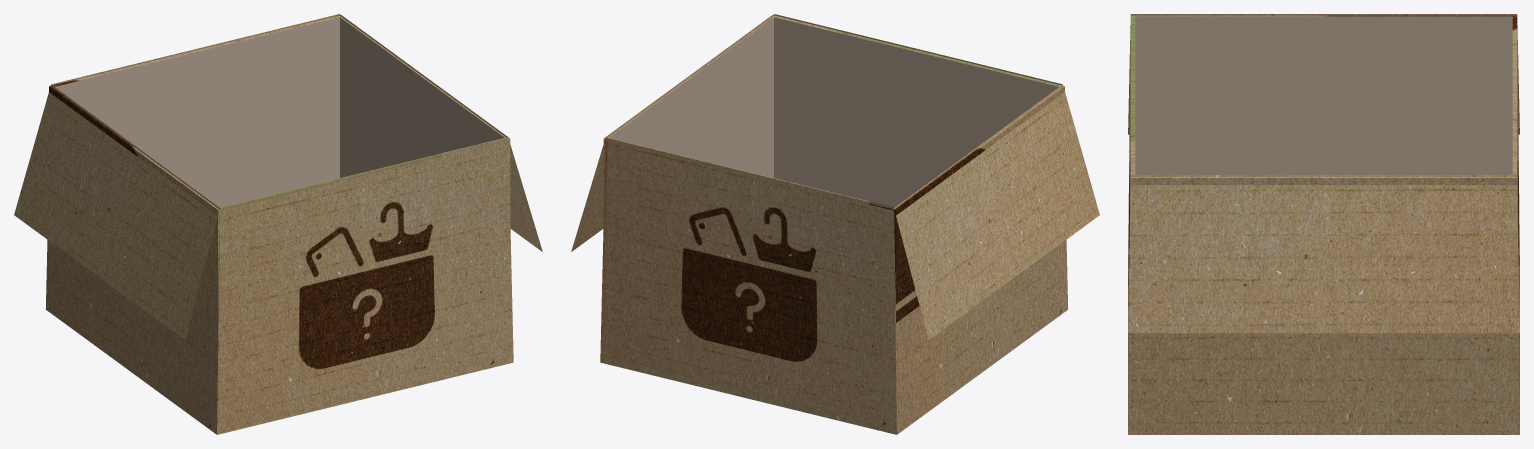
The picture shows the model from 3 angles, left to right: view 1: azimuth 30°, elevation 25°; view 2: azimuth 150°, elevation 25°; view 3: azimuth 270°, elevation 25°; orthographic projection. The views are drawn at different scales.
Visible parts, largest first — view 1: Cube; view 2: Cube; view 3: Cube.
Part boxes in pixels (left/top/right/bottom): Cube: left=14, top=14, right=542, bottom=434; Cube: left=571, top=14, right=1099, bottom=434; Cube: left=1128, top=14, right=1519, bottom=434.
Size of the model in its own units: 241 by 145 by 200.
2 materials, 1 textured.
